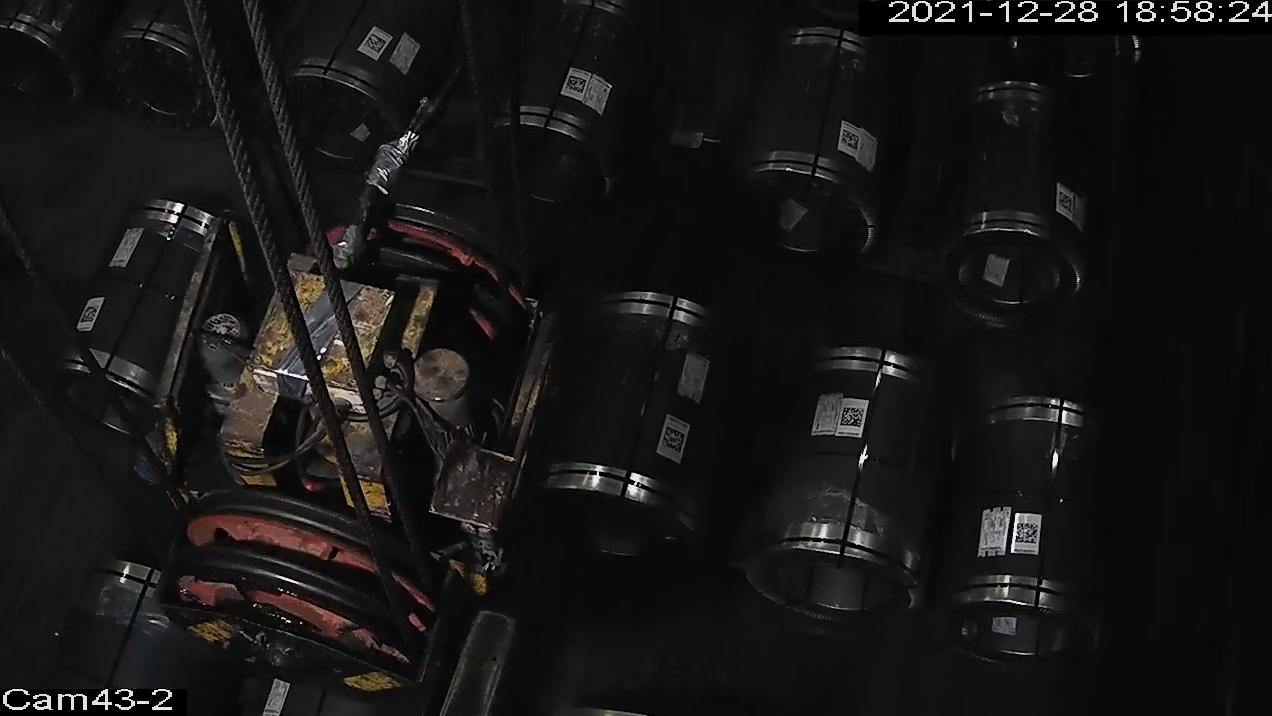data matrix: (660, 426, 688, 455), (1013, 521, 1041, 548), (839, 404, 867, 429), (363, 32, 389, 56), (1057, 188, 1077, 218), (840, 128, 862, 153), (79, 303, 103, 325), (565, 74, 589, 96)
